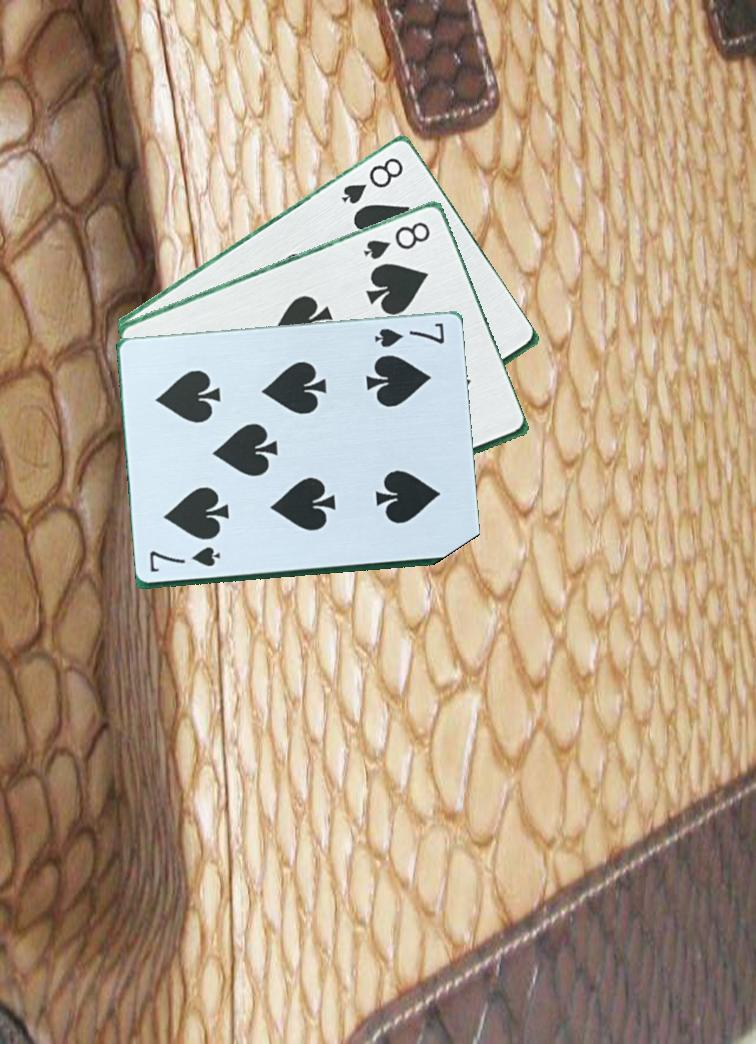7s: (372, 318, 448, 350), (146, 544, 223, 575)
8s: (338, 153, 418, 207), (360, 217, 445, 262)
